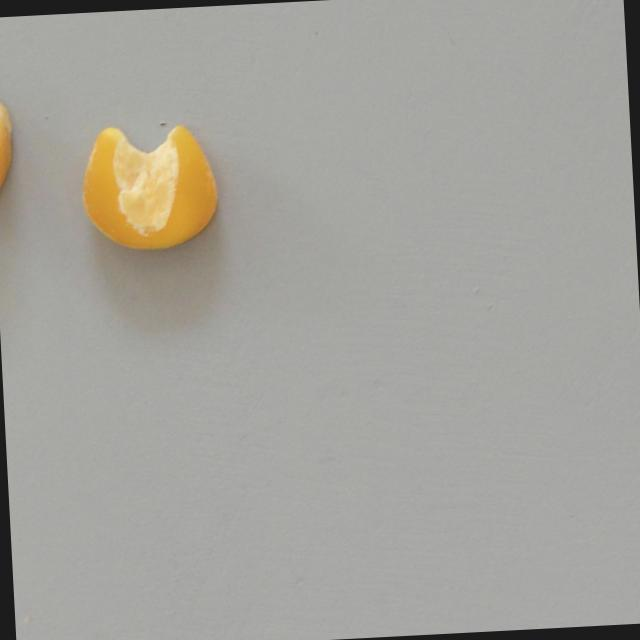dañado: (68, 115, 227, 258), (0, 80, 18, 213)
